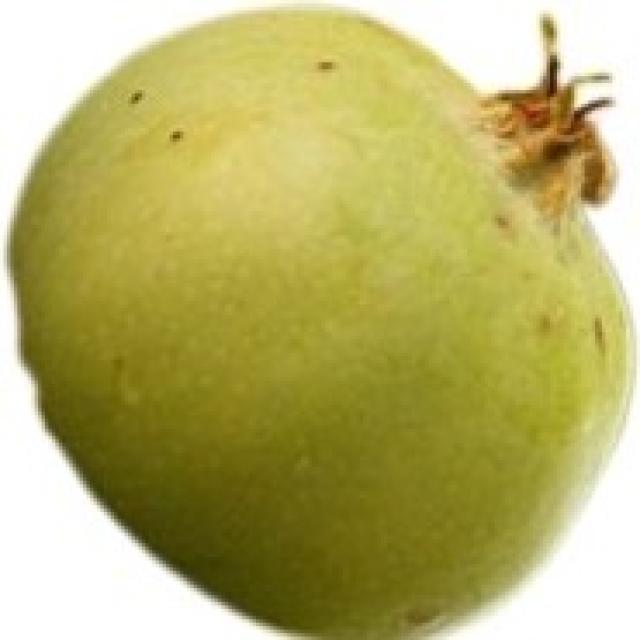50-_ripeness: (6, 8, 639, 634)
